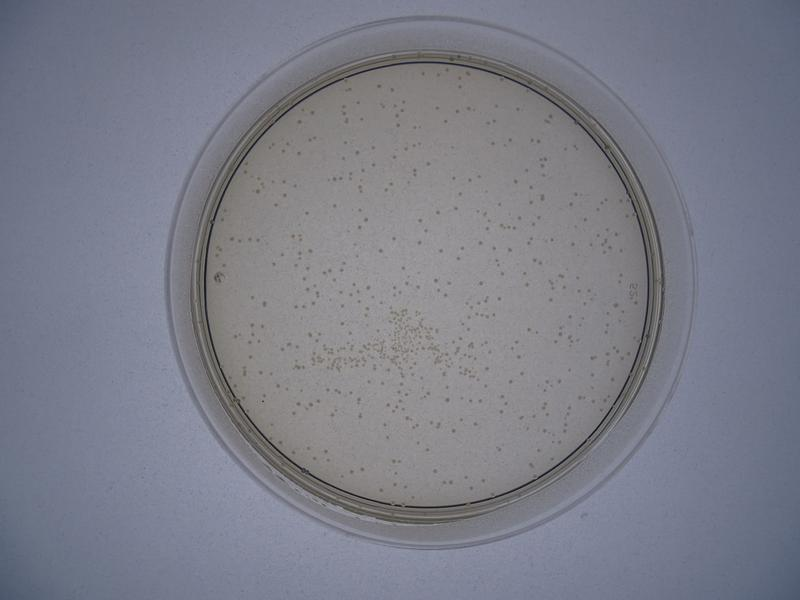colony: (475, 278, 486, 288), (565, 364, 574, 374), (566, 200, 575, 208), (547, 296, 556, 304), (260, 298, 268, 307), (461, 472, 470, 480), (441, 118, 450, 125), (476, 240, 485, 247), (339, 155, 348, 162), (295, 150, 303, 157), (570, 240, 577, 248), (432, 277, 440, 284), (454, 106, 461, 114), (518, 370, 526, 377), (359, 465, 366, 473), (472, 422, 480, 429), (455, 255, 461, 264), (391, 236, 398, 243), (366, 378, 373, 385), (400, 263, 407, 270), (390, 86, 397, 93), (496, 201, 503, 208), (512, 178, 519, 185), (566, 312, 573, 319), (270, 261, 278, 267), (295, 119, 303, 125), (323, 447, 329, 455), (307, 330, 313, 338), (435, 209, 442, 215), (332, 203, 338, 210), (303, 210, 310, 216), (450, 174, 457, 180), (515, 106, 522, 112), (437, 247, 444, 253), (416, 217, 423, 223), (365, 284, 371, 291), (339, 320, 345, 327), (489, 141, 496, 147), (228, 235, 234, 242), (355, 149, 361, 156), (358, 115, 365, 121), (517, 353, 523, 360), (324, 387, 331, 393), (424, 446, 430, 453), (275, 382, 280, 390), (371, 144, 377, 150), (376, 83, 382, 89), (416, 240, 423, 245), (496, 296, 503, 301), (377, 249, 384, 254), (523, 168, 530, 173), (363, 217, 368, 223), (342, 140, 348, 145), (250, 295, 255, 301), (293, 304, 299, 309), (525, 327, 531, 332), (426, 161, 432, 166), (395, 123, 401, 128), (434, 105, 440, 110), (453, 206, 459, 211), (457, 191, 463, 196), (249, 354, 253, 361), (273, 203, 279, 207)
